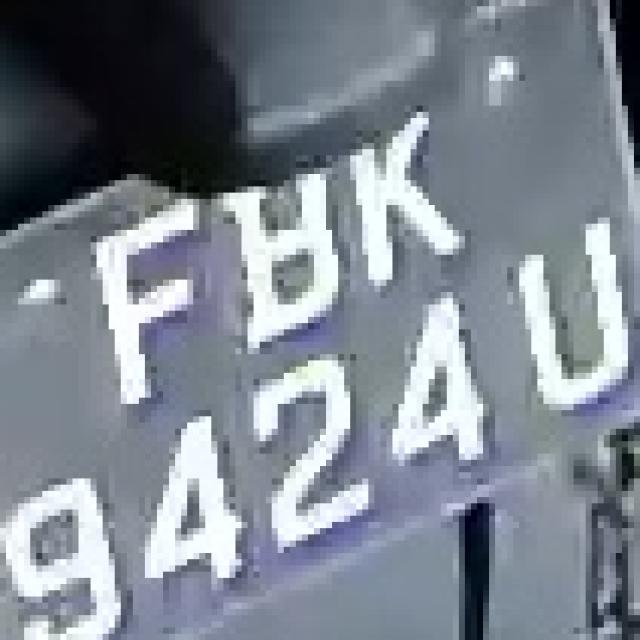2: (206, 342, 374, 572)
4: (350, 280, 507, 503), (109, 404, 254, 609)
9: (0, 5, 2, 6)
B: (212, 143, 351, 342)
F: (60, 180, 224, 392)
U: (501, 205, 640, 404)
